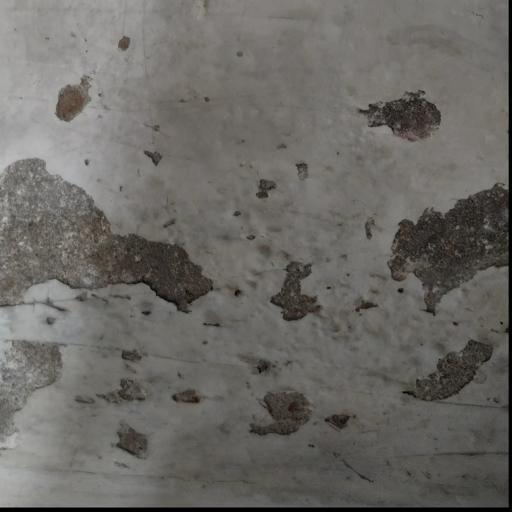peeling: (0, 121, 244, 485), (343, 186, 512, 326), (245, 356, 373, 446), (396, 322, 512, 417), (344, 82, 470, 157), (270, 226, 333, 328), (40, 66, 102, 125), (115, 28, 145, 62)
